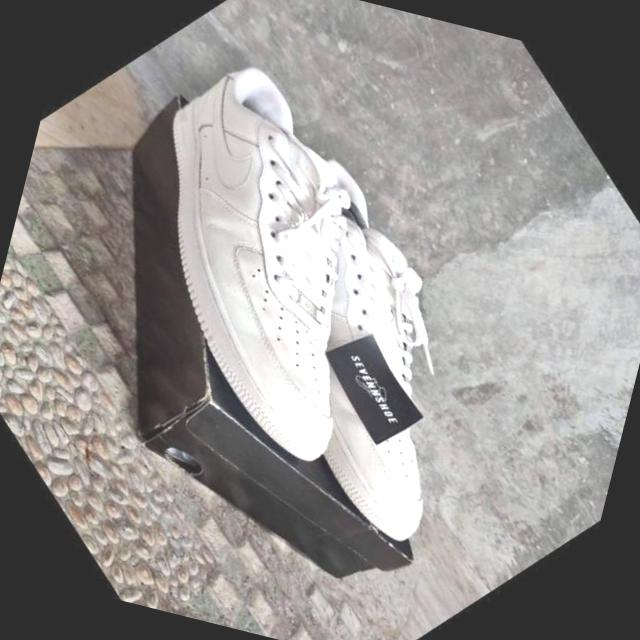nike_fake_airforce: (21, 20, 524, 518), (128, 125, 594, 585)
